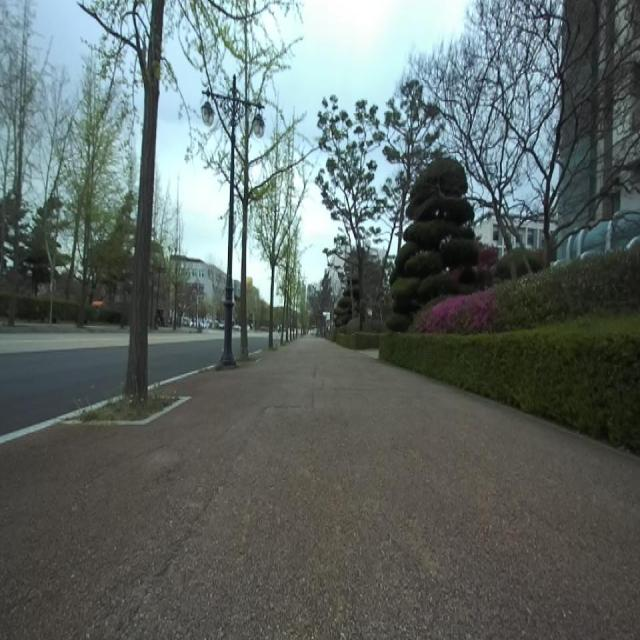sidewalk: (0, 337, 640, 639), (0, 395, 122, 444), (148, 364, 215, 390)
